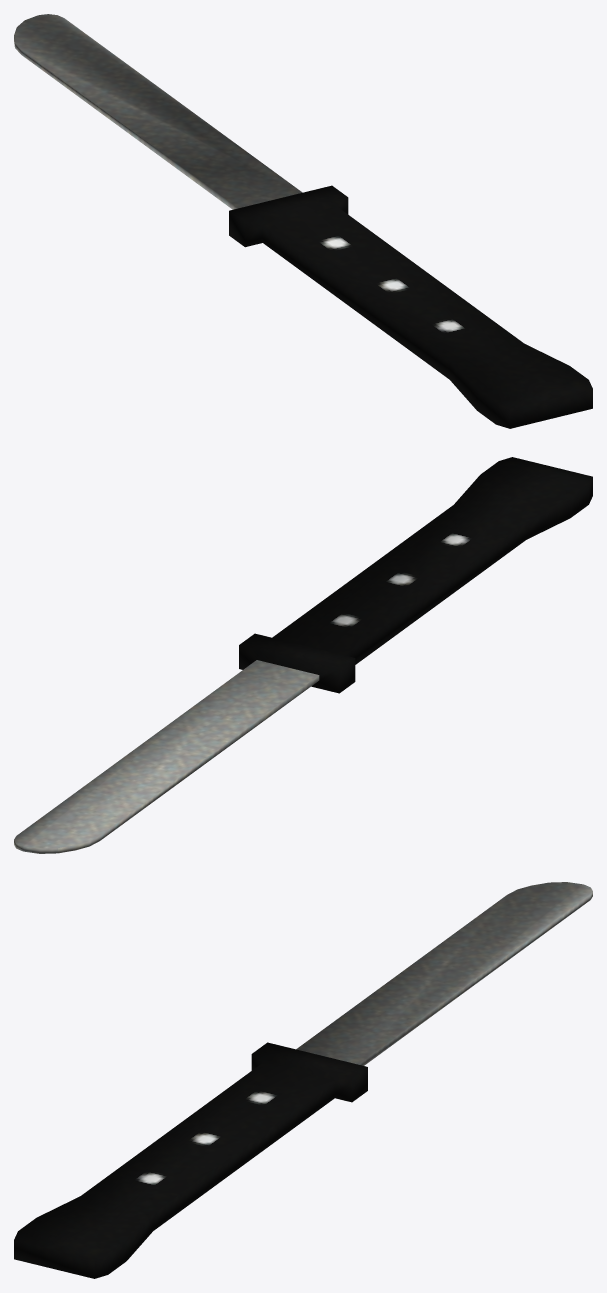
Rendered from butter_knife.obj.
3 views of the same model, one above another, from view 1: azimuth 30°, elevation 25°; view 2: azimuth 150°, elevation 25°; view 3: azimuth 330°, elevation 25° (orthographic). The views are drawn at different scales.
Parts seen in each view (by area): view 1: butter_knife; view 2: butter_knife; view 3: butter_knife.
Boxes of the visible parts, bbox=[...] form: butter_knife: bbox=[14, 14, 592, 428]; butter_knife: bbox=[14, 457, 592, 853]; butter_knife: bbox=[14, 882, 592, 1278].
Size of the model in its own units: 0.0255 by 0.00582 by 0.2258.
